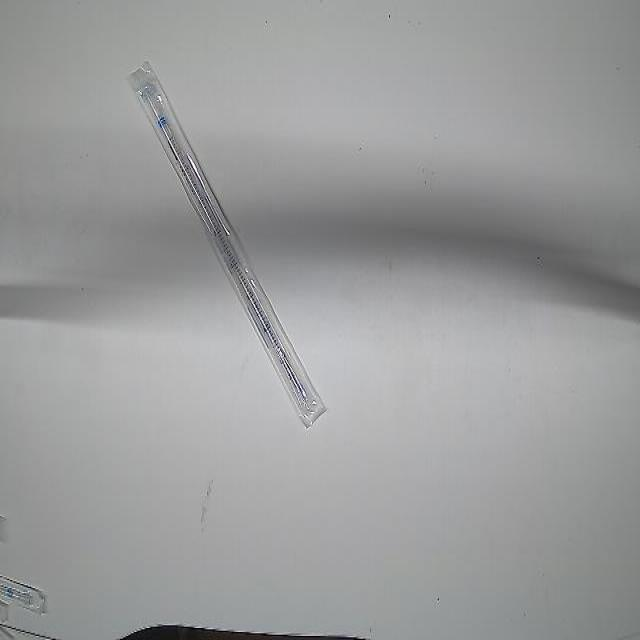Serelogical Pipet 5 mL - Sealed: (123, 58, 331, 430)
